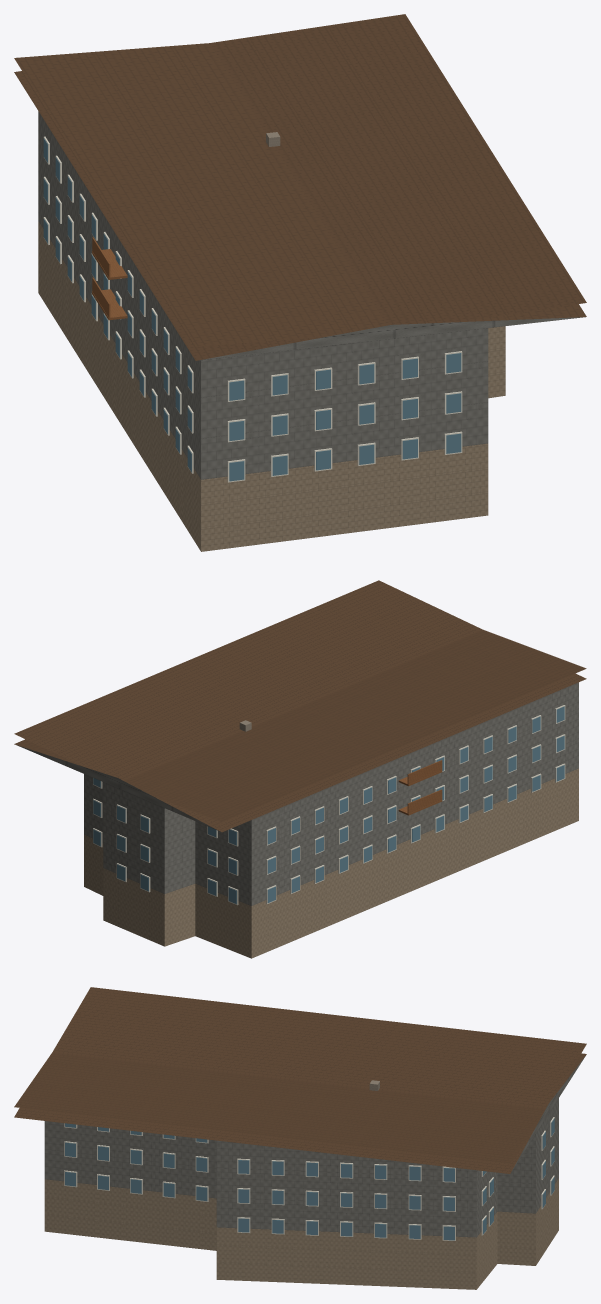
File: core_0150.gltf
3 views of the same model, one above another, from view 1: azimuth 30°, elevation 25°; view 2: azimuth 150°, elevation 25°; view 3: azimuth 270°, elevation 25° (orthographic). The views are drawn at different scales.
Visible parts, largest first — view 1: core_0150; view 2: core_0150; view 3: core_0150.
Boxes of the visible parts, <box> form: core_0150: <box>14,14,586,551</box>; core_0150: <box>14,580,586,958</box>; core_0150: <box>14,987,586,1289</box>.
Bounding box in the file's own units: 36.91 × 14.95 × 50.57.
Materials: 7 (7 with a texture image).
